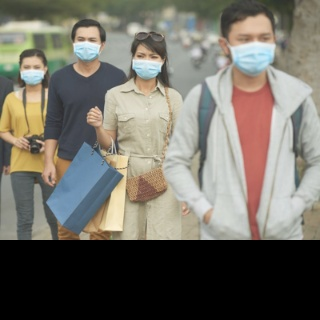with_mask: (227, 31, 274, 78), (132, 52, 162, 80), (73, 35, 100, 63), (19, 63, 44, 85)
